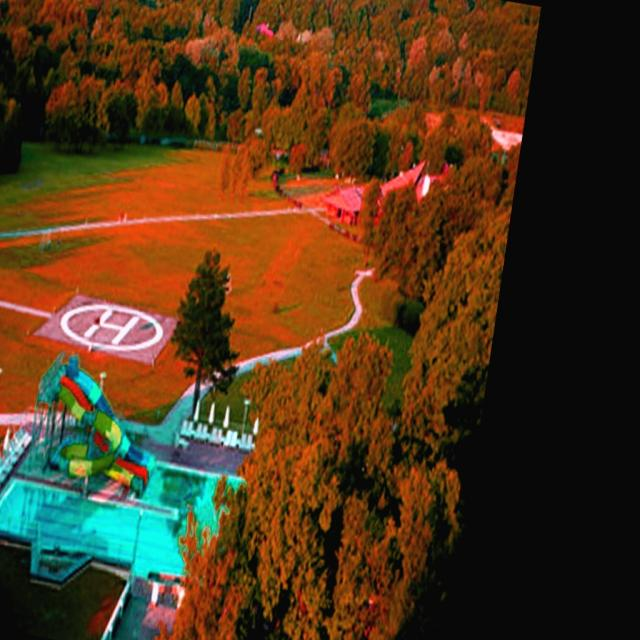helipad: (57, 300, 166, 354)
